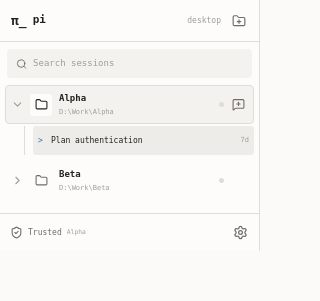
Test: Sidebar › stops automatic retries and offers a manual retry when session loading fails
The image size is (320, 301).
Click the button named "Expand Beta": click(17, 180) [6,166,28,196]
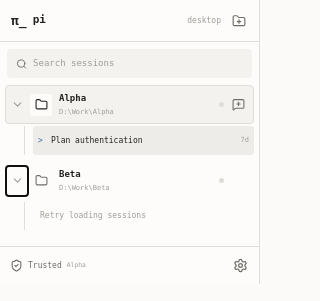
Result: the button "Retry loading sessions" is shown at [33,202,254,230]
